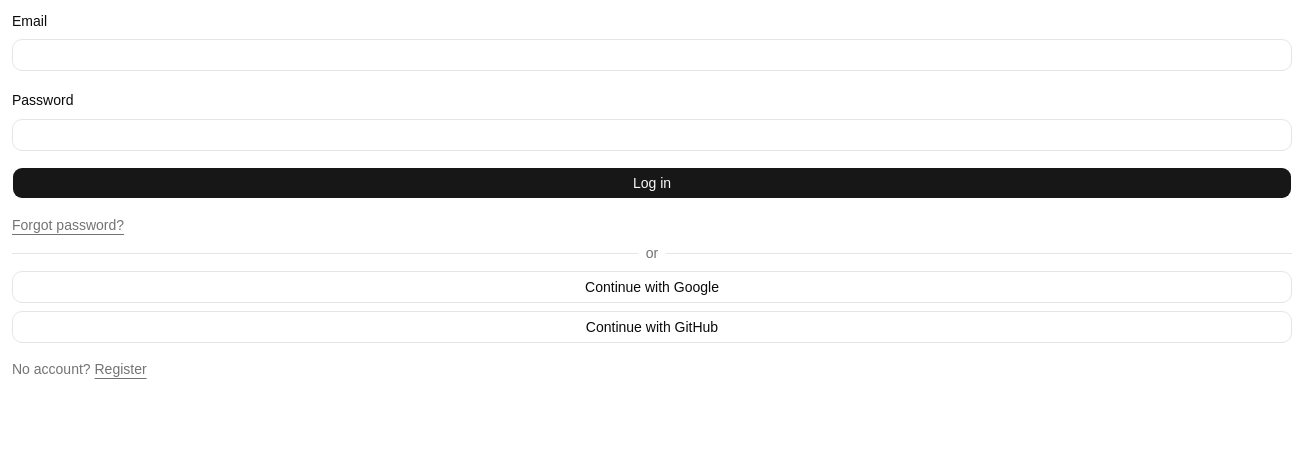
it: LoginForm › shows client-side validation messages
This screenshot has width=1304, height=452.
Click the button "Log in" at (652, 182), box 12,166 -> 1292,198
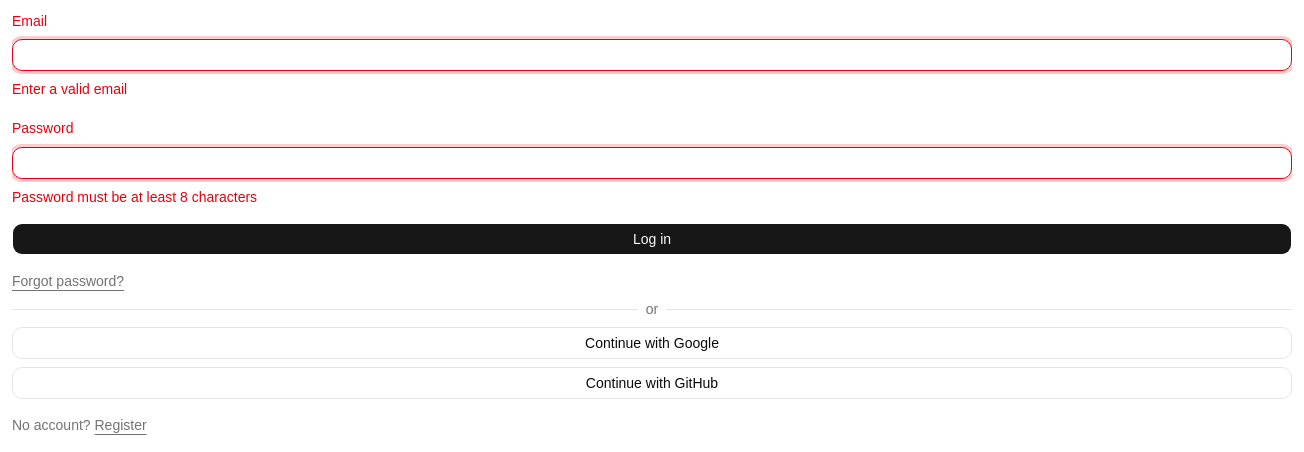
Expected: the text "Enter a valid email" is shown, 12,81 -> 127,97
Expected: the text "Password must be at least 8 characters" is shown, 12,188 -> 257,204
